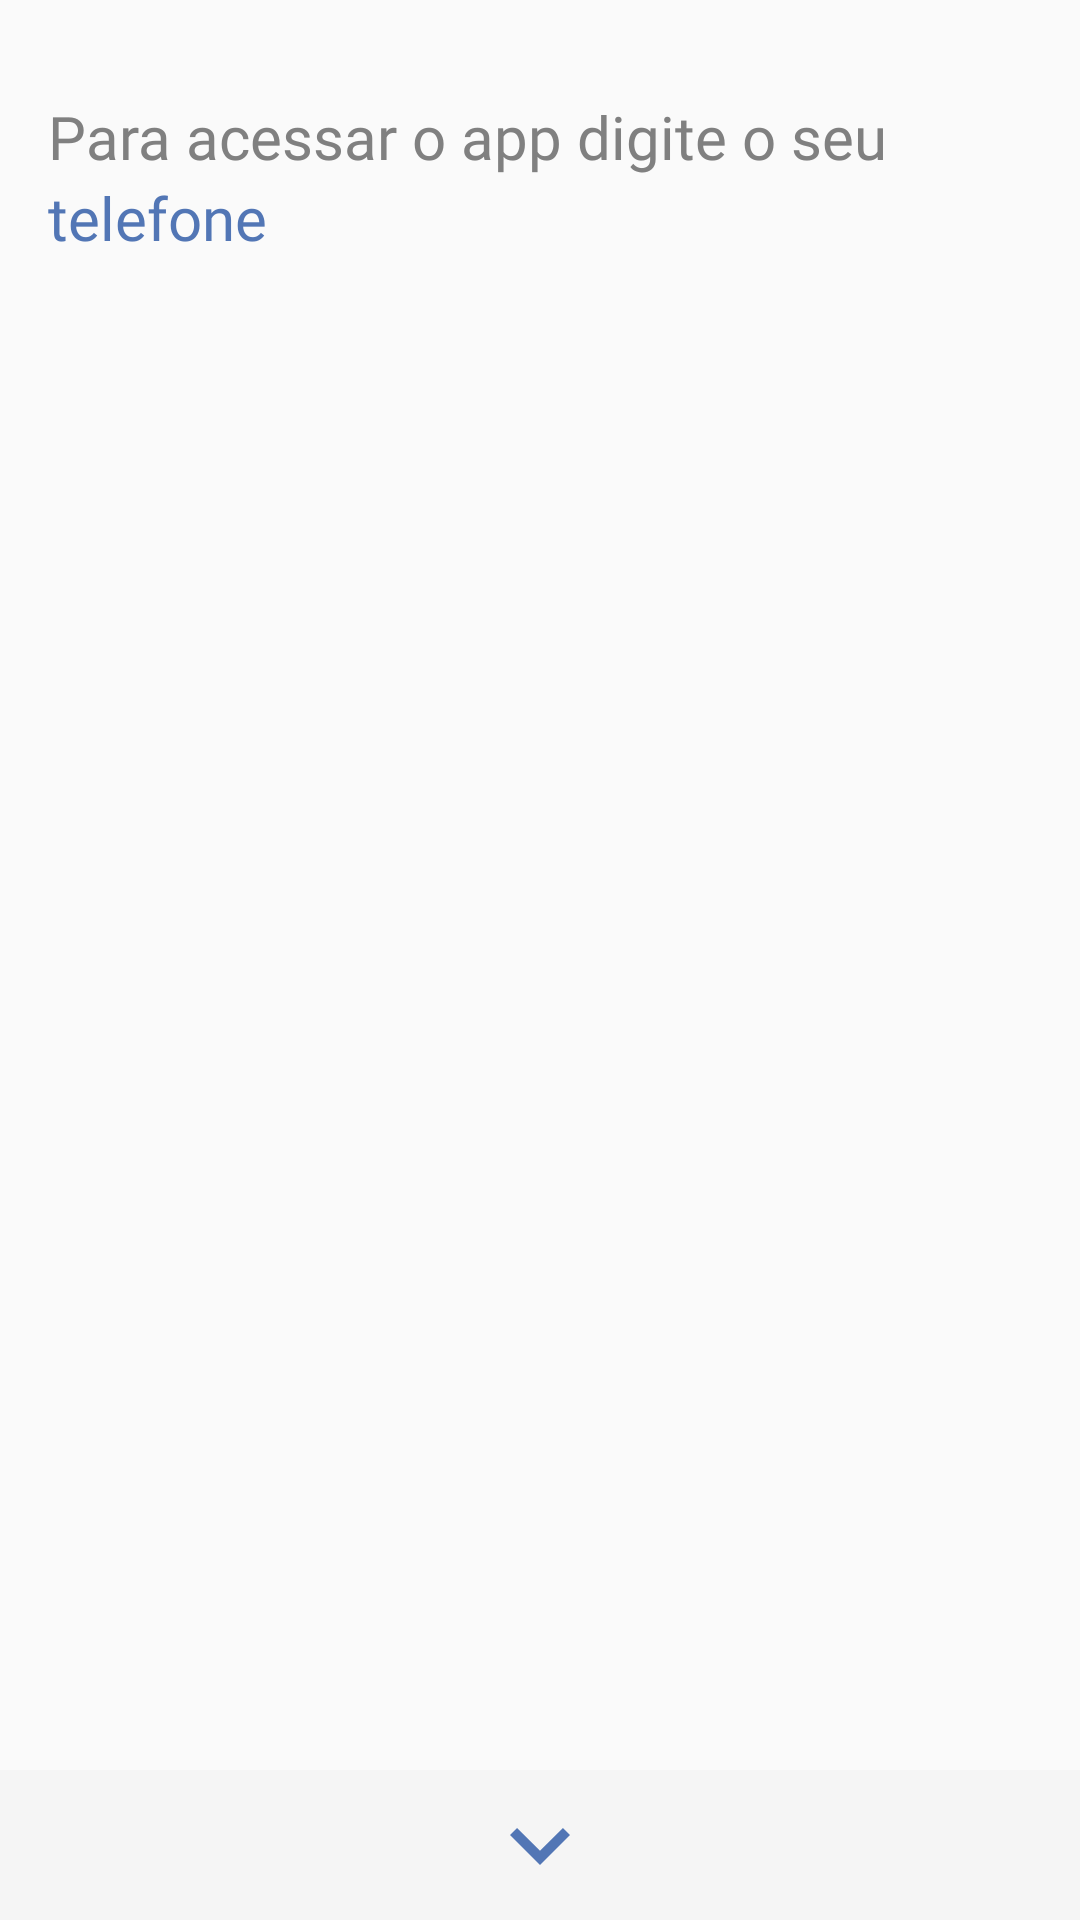

Icons on this 1080px x 1920px Android screen, each with its box as (x1, y1, x2, y2):
chevron down: (510, 1828, 570, 1865)
